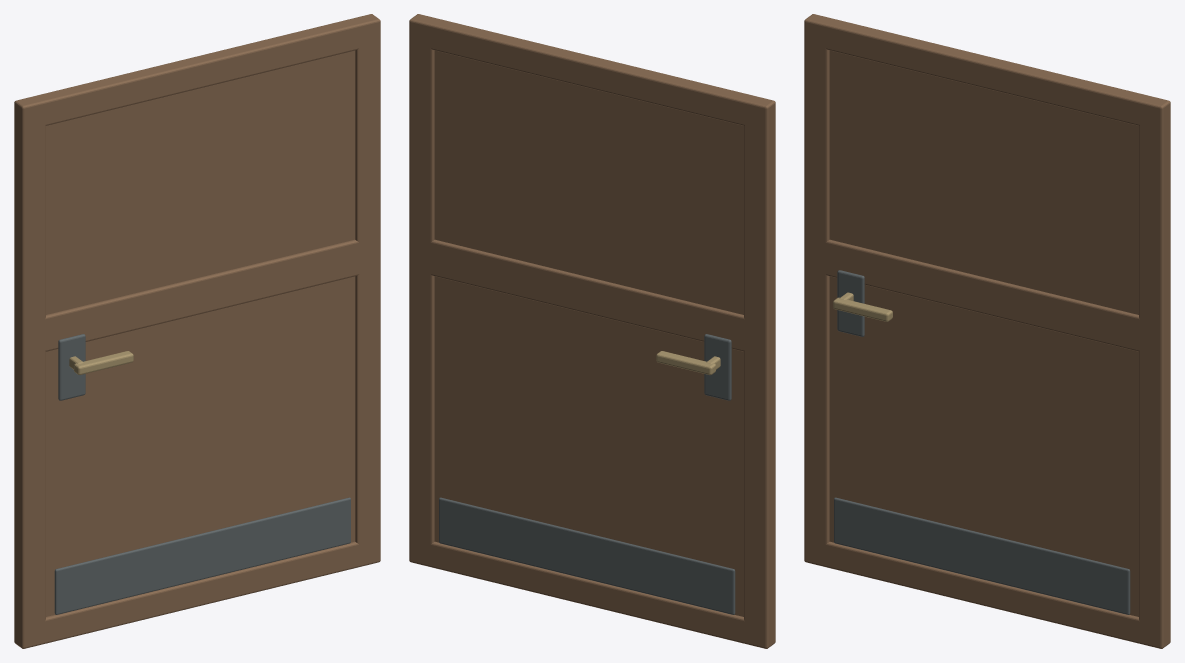
File: DoorLeaf.fbx
3 renders of one model, left to right at view 1: azimuth 30°, elevation 25°; view 2: azimuth 150°, elevation 25°; view 3: azimuth 330°, elevation 25°, orthographic.
Visible parts, largest first — view 1: Door_Oak.001, Door_Metal.001, Door_Brass.001; view 2: Door_Oak.001, Door_Metal.001, Door_Brass.001; view 3: Door_Oak.001, Door_Metal.001, Door_Brass.001.
Part boxes in pixels (left/top/right/bottom): Door_Oak.001: left=14, top=14, right=380, bottom=648; Door_Metal.001: left=54, top=334, right=350, bottom=614; Door_Brass.001: left=69, top=351, right=133, bottom=374; Door_Oak.001: left=409, top=14, right=775, bottom=648; Door_Metal.001: left=439, top=334, right=735, bottom=614; Door_Brass.001: left=656, top=351, right=720, bottom=374; Door_Oak.001: left=804, top=14, right=1170, bottom=648; Door_Metal.001: left=834, top=270, right=1130, bottom=614; Door_Brass.001: left=833, top=292, right=892, bottom=321.
Bounding box in the file's own units: 148 × 214 × 26.
